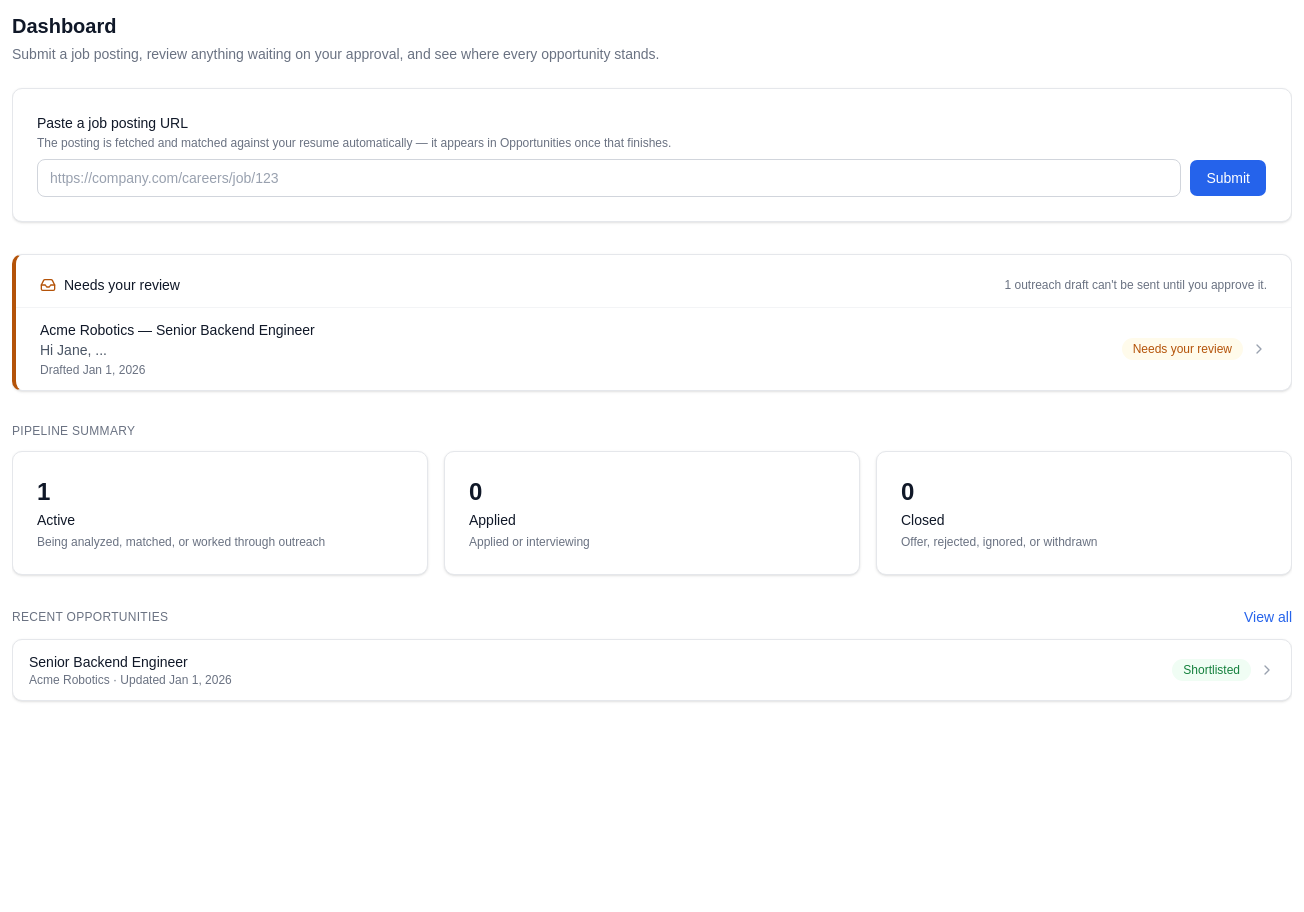
DashboardPage › shows an inline error and does not navigate for an invalid URL
Step 1. Type "not-a-url" into the field labelled "Paste a job posting URL" → (609, 178), box [37,159,1181,197]
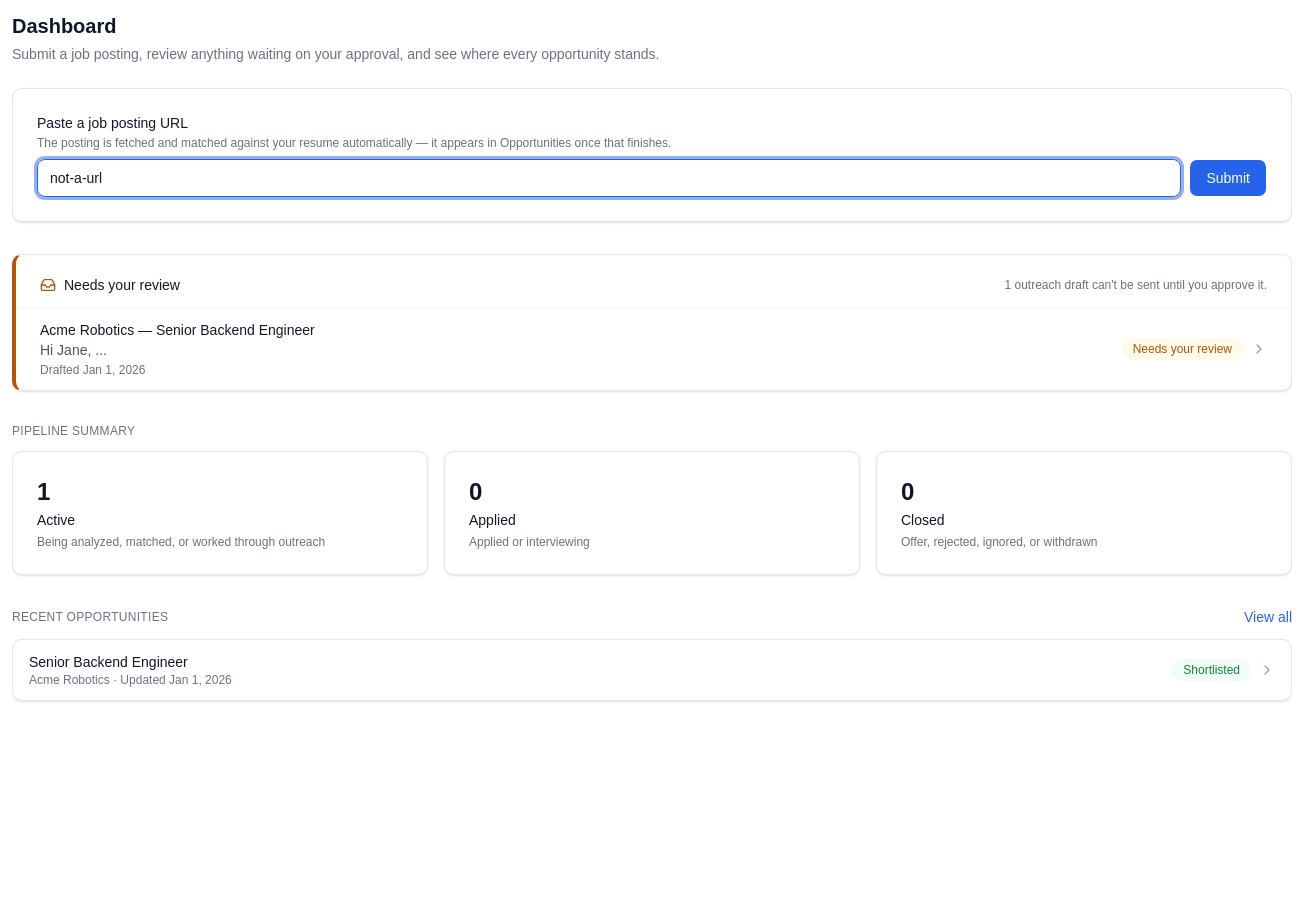
Step 2. Click the button "Submit" → (1228, 178), box [1189,159,1267,197]
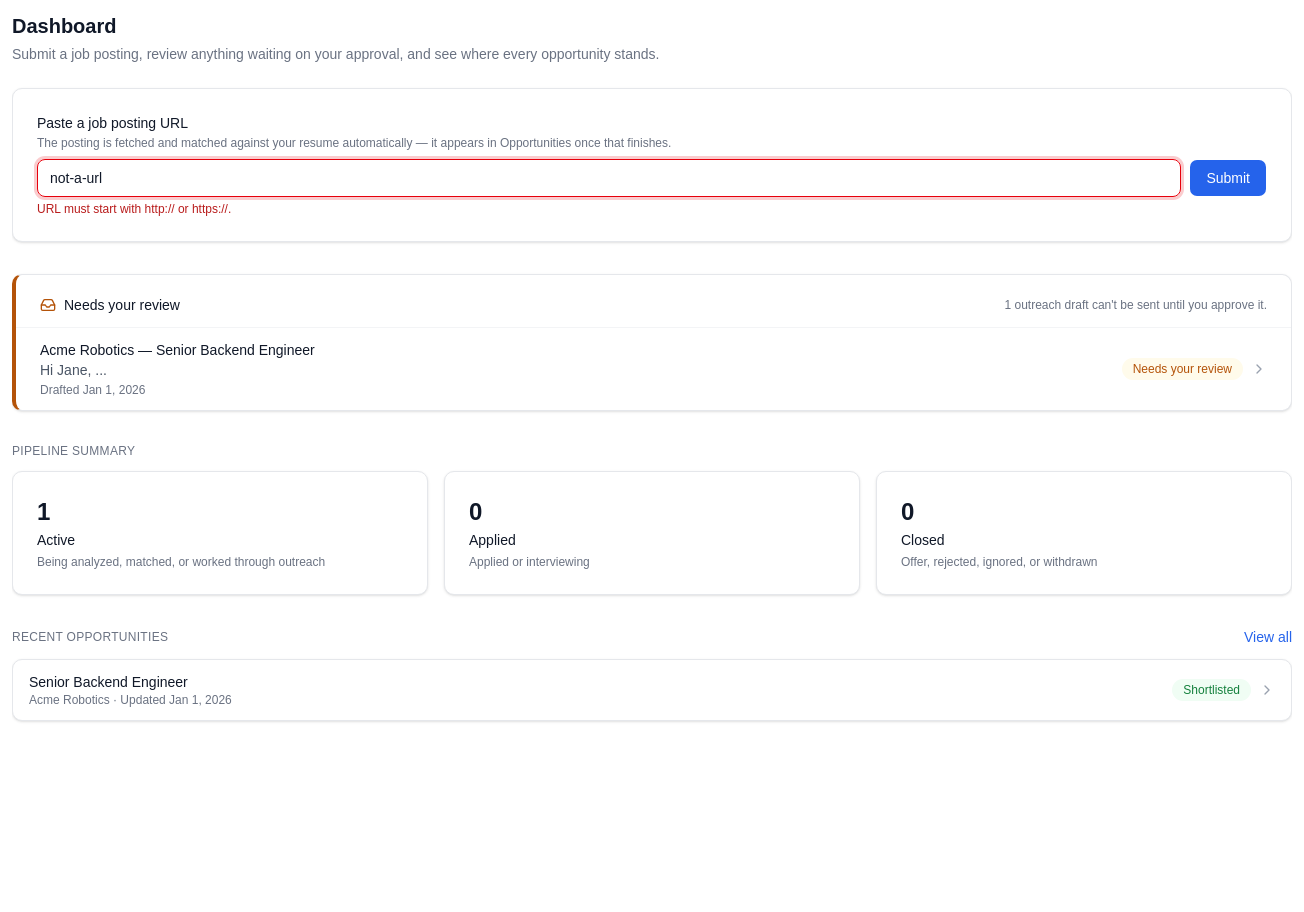
Expected: the text "URL must start with http:// or https://." is shown, [37,202,231,216]
